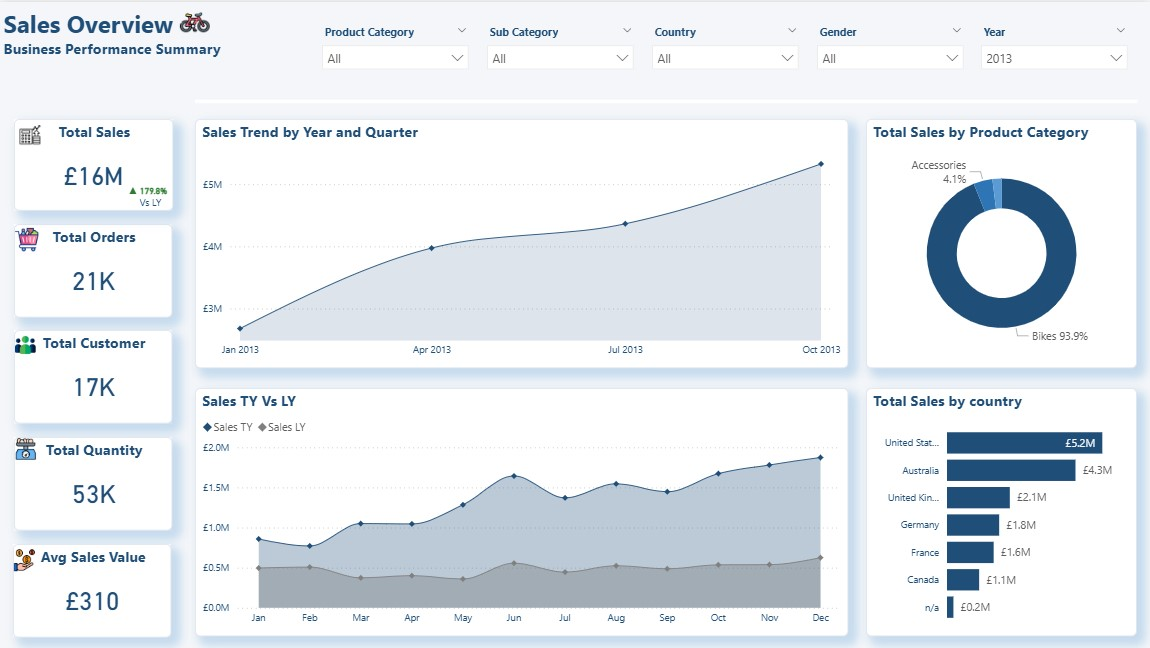

The dashboard page shown, as its layout file describes it:
{"tool":"powerbi","page":{"name":"Overview","canvas":[1280,720],"ordinal":1},"visuals":[{"type":"card","title":"Total Sales","fields":{"Values":["_measures.Total Sales"]},"box":[17.1,130.1,176.6,101.9],"z":0,"group":"g5"},{"type":"card","title":"Avg Sales Value","fields":{"Values":["_measures.YoY KPI"]},"box":[133,191.5,63.5,42.3],"z":0,"group":"g6"},{"type":"group","id":"g1","title":"Group 2","box":[16.1,246.6,176.4,103.9],"z":0},{"type":"card","title":"Total Orders","fields":{"Values":["_measures.Total Orders"]},"box":[16.1,246.6,176.4,103.9],"z":0,"group":"g1"},{"type":"card","title":"Total Customer","fields":{"Values":["_measures.Total Customer"]},"box":[16.1,365,176.4,103.9],"z":0,"group":"g2"},{"type":"card","title":"Total Quantity","fields":{"Values":["_measures.Total Quantity"]},"box":[16.1,483.3,176.4,103.9],"z":0,"group":"g3"},{"type":"card","title":"Avg Sales Value","fields":{"Values":["_measures.Avg Sales Value"]},"box":[15.1,601.7,176.4,103.9],"z":0,"group":"g4"},{"type":"image","box":[18.8,130.1,31.3,35.6],"z":1000,"group":"g5"},{"type":"image","box":[16.9,249.7,26.2,27.5],"z":1000,"group":"g1"},{"type":"group","id":"g2","title":"Group 3","box":[16.1,365,176.4,103.9],"z":1000},{"type":"image","box":[16.9,366,22.9,30.5],"z":1000,"group":"g2"},{"type":"image","box":[17.3,484.5,24.1,24.7],"z":1000,"group":"g3"},{"type":"group","id":"g3","title":"Group 4","box":[16.1,483.3,175.7,103.9],"z":2000},{"type":"image","box":[15.6,602.9,25.1,34],"z":2000,"group":"g4"},{"type":"group","id":"g4","title":"Group 5","box":[15.1,601.7,176.4,103.9],"z":3000},{"type":"group","id":"g5","title":"Group 1","box":[17.1,130.1,176.3,102],"z":4000},{"type":"textbox","box":[0,0,265.5,92.4],"z":5000},{"type":"shape","box":[217.7,104.8,1047.2,12.1],"z":6000},{"type":"slicer","title":"Product Cate","fields":{"Values":["product.product_category"]},"box":[349,20.3,183.1,76.7],"z":7000},{"type":"slicer","title":"Product Cate","fields":{"Values":["customer.country"]},"box":[715.3,20.2,183.3,76.7],"z":8000},{"type":"slicer","title":"Product Cate","fields":{"Values":["product.subcategory"]},"box":[532.1,20.2,183.3,76.7],"z":9000},{"type":"slicer","title":"Product Cate","fields":{"Values":["customer.gender"]},"box":[898.6,20.2,182.9,76.8],"z":10000},{"type":"slicer","title":"Product Cate","fields":{"Values":["calendar.Year"]},"box":[1081.4,20.2,182.9,76.8],"z":11000},{"type":"image","box":[200.4,6.8,35,32.1],"z":12000},{"type":"lineChart","fields":{"Y":["_measures.Total Sales"],"Category":["calendar.Date.Variation.Date Hierarchy.Year","calendar.Date.Variation.Date Hierarchy.Quarter","calendar.Date.Variation.Date Hierarchy.Month","calendar.Date.Variation.Date Hierarchy.Day"]},"box":[217.7,130,725.7,277.2],"z":13000},{"type":"donutChart","fields":{"Category":["product.product_category"],"Y":["_measures.Total Sales"]},"box":[963.5,130,301.4,277.2],"z":14000},{"type":"barChart","fields":{"Y":["_measures.Total Sales"],"Category":["customer.country"]},"box":[963.5,429.4,301.4,276.2],"z":15000},{"type":"lineChart","title":"Sales TY Vs LY","fields":{"Y":["_measures.Total Sales","_measures.Total Sales LY"],"Category":["calendar.Month Short"]},"box":[217.7,429.3,725.7,276.2],"z":16000},{"type":"textbox","box":[151.1,208.6,38.3,27.2],"z":16001,"group":"g6"},{"type":"group","id":"g6","title":"Group 6","box":[133,191.5,63.5,44.3],"z":17000}]}

Visuals, with their boxes in screenshot pixels (x1, y1, x2, y2), scaled from the page's 1280x720 canvas onto the 1150x648 screenshot:
"Total Sales" card: x1=15, y1=117, x2=174, y2=209
"Avg Sales Value" card: x1=119, y1=172, x2=177, y2=210
"Group 2" group: x1=14, y1=222, x2=173, y2=315
"Total Orders" card: x1=14, y1=222, x2=173, y2=315
"Total Customer" card: x1=14, y1=328, x2=173, y2=422
"Total Quantity" card: x1=14, y1=435, x2=173, y2=528
"Avg Sales Value" card: x1=14, y1=542, x2=172, y2=635
image: x1=17, y1=117, x2=45, y2=149
image: x1=15, y1=225, x2=39, y2=249
"Group 3" group: x1=14, y1=328, x2=173, y2=422
image: x1=15, y1=329, x2=36, y2=357
image: x1=16, y1=436, x2=37, y2=458
"Group 4" group: x1=14, y1=435, x2=172, y2=528
image: x1=14, y1=543, x2=37, y2=573
"Group 5" group: x1=14, y1=542, x2=172, y2=635
"Group 1" group: x1=15, y1=117, x2=174, y2=209
textbox: x1=0, y1=0, x2=239, y2=83
shape: x1=196, y1=94, x2=1136, y2=105
"Product Cate" slicer: x1=314, y1=18, x2=478, y2=87
"Product Cate" slicer: x1=643, y1=18, x2=807, y2=87
"Product Cate" slicer: x1=478, y1=18, x2=643, y2=87
"Product Cate" slicer: x1=807, y1=18, x2=972, y2=87
"Product Cate" slicer: x1=972, y1=18, x2=1136, y2=87
image: x1=180, y1=6, x2=211, y2=35
lineChart - _measures.Total Sales x calendar.Date.Variation.Date Hierarchy.Year: x1=196, y1=117, x2=848, y2=366
donutChart - product.product_category x _measures.Total Sales: x1=866, y1=117, x2=1136, y2=366
barChart - _measures.Total Sales x customer.country: x1=866, y1=386, x2=1136, y2=635
"Sales TY Vs LY" lineChart: x1=196, y1=386, x2=848, y2=635
textbox: x1=136, y1=188, x2=170, y2=212
"Group 6" group: x1=119, y1=172, x2=177, y2=212
